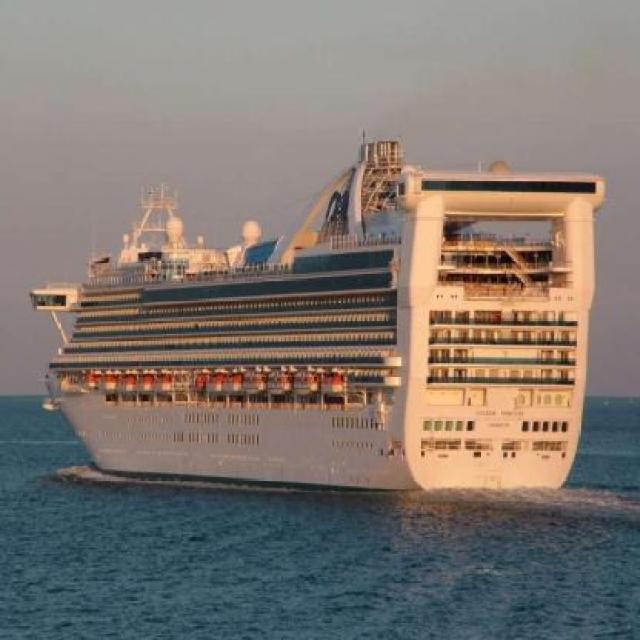ship: (49, 141, 612, 493)
